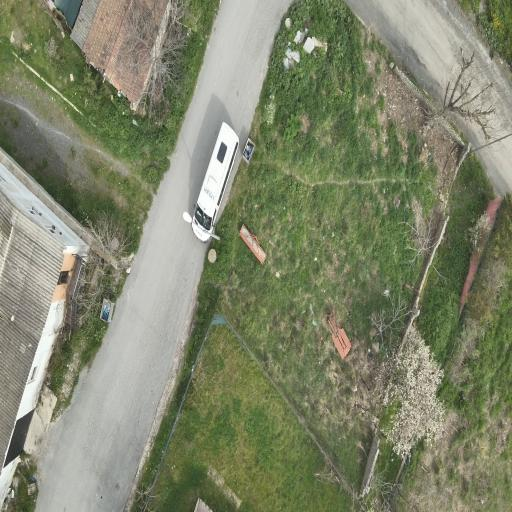bus: (184, 122, 239, 243)
